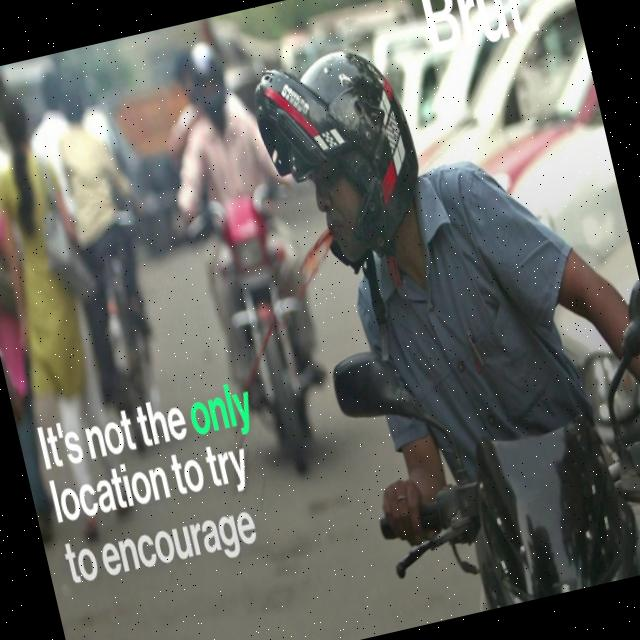spit: (235, 173, 399, 430)
